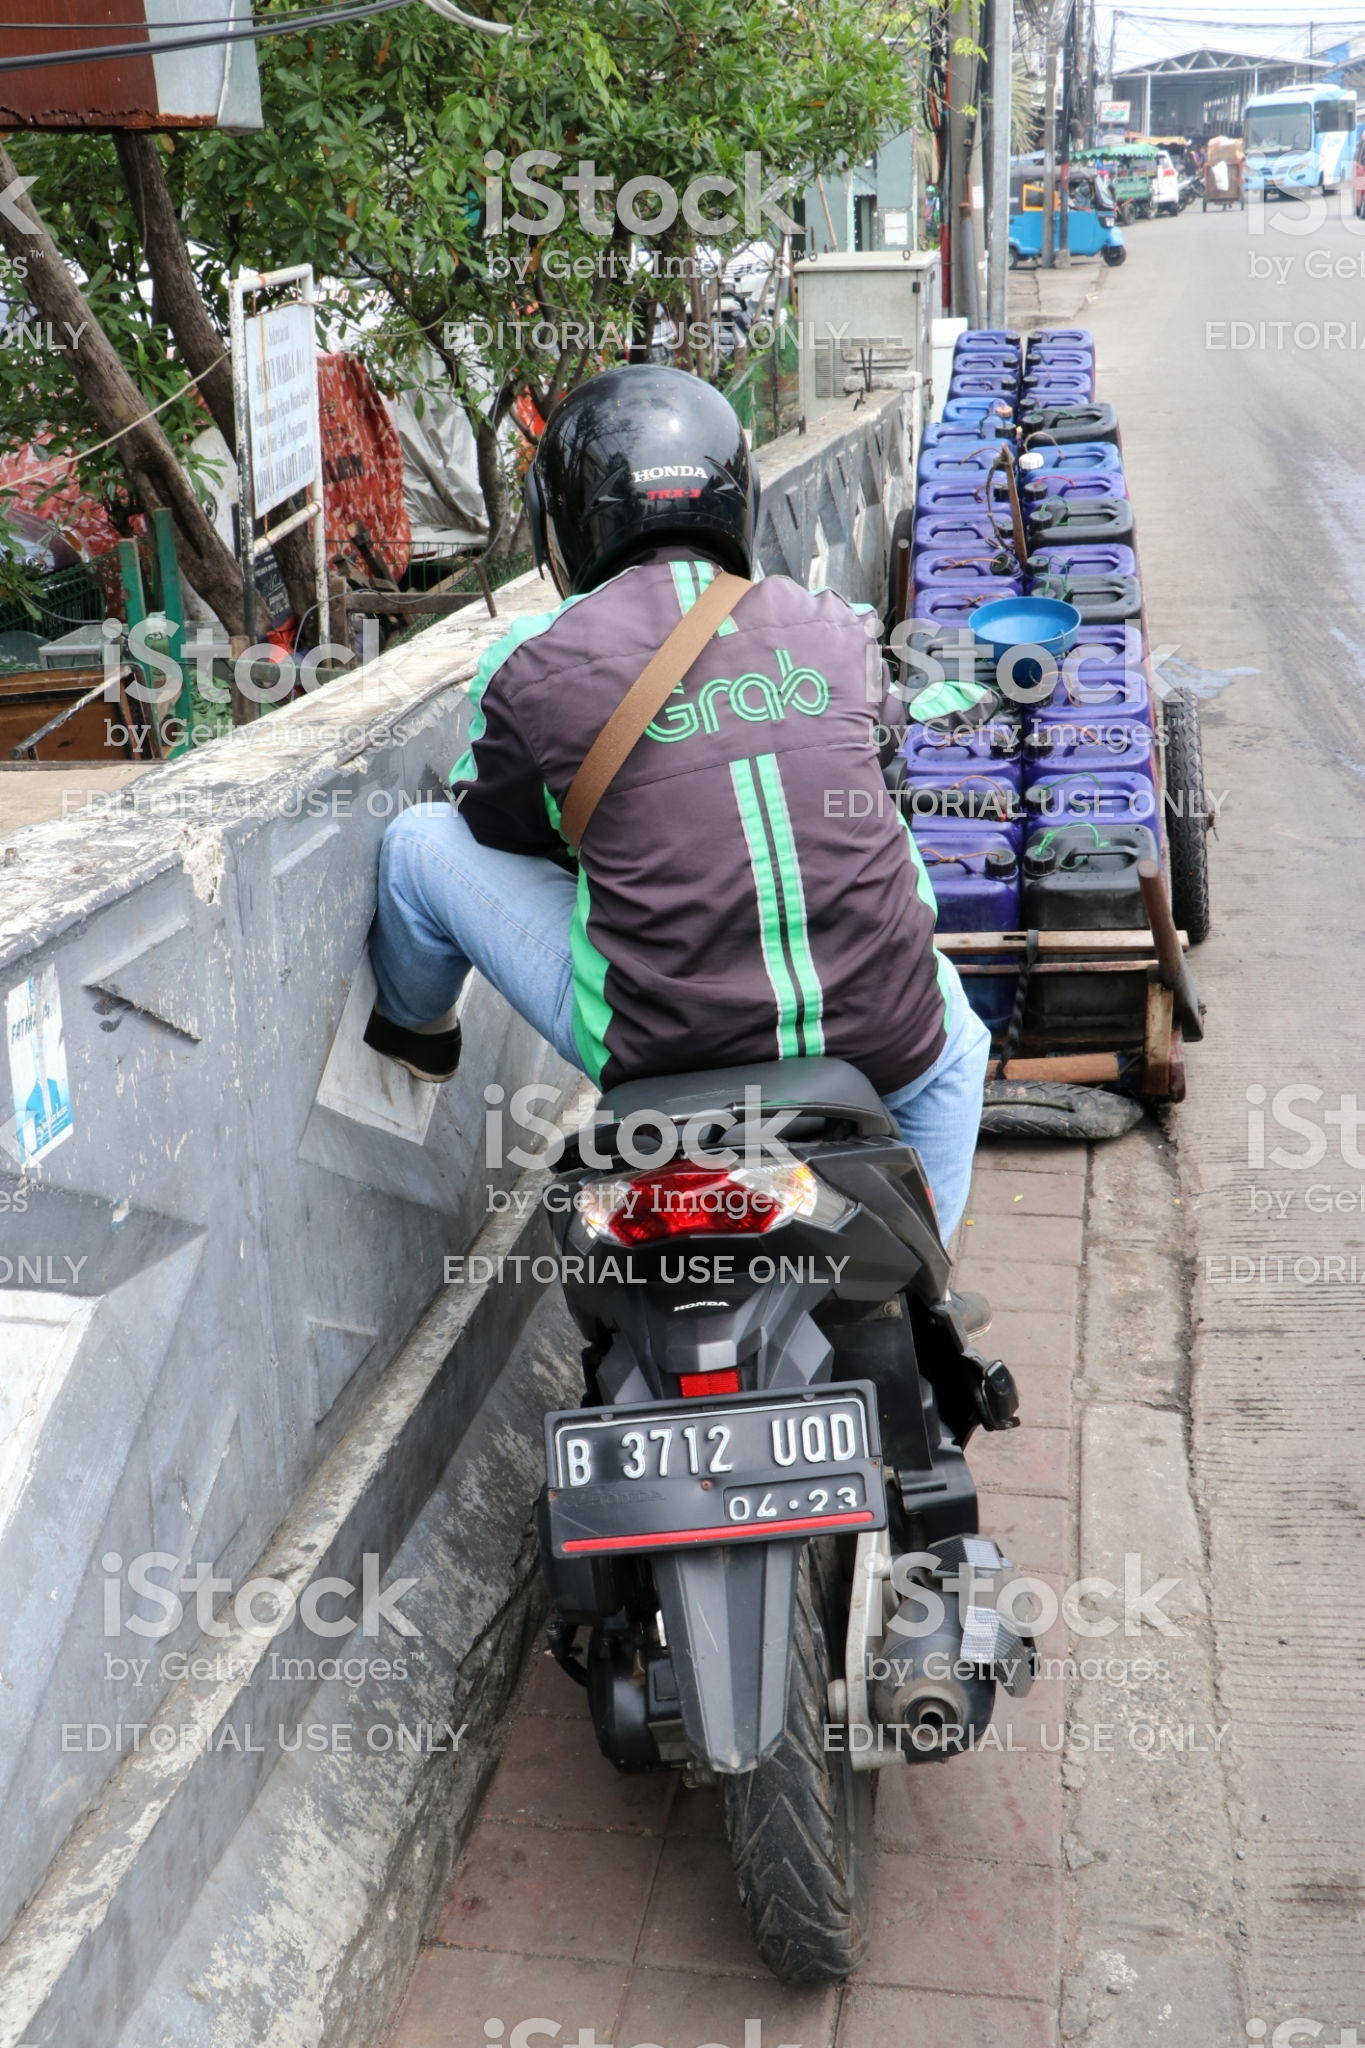helmet: (516, 388, 778, 576)
